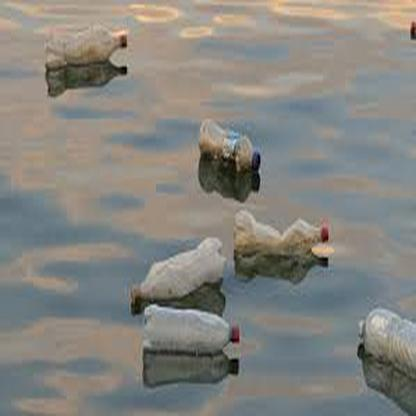plastic bottle: (128, 236, 228, 304), (141, 303, 240, 355), (235, 209, 330, 260), (357, 307, 416, 377), (43, 22, 128, 69), (199, 117, 261, 169)
